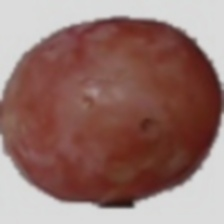grapes: (37, 29, 203, 224)
